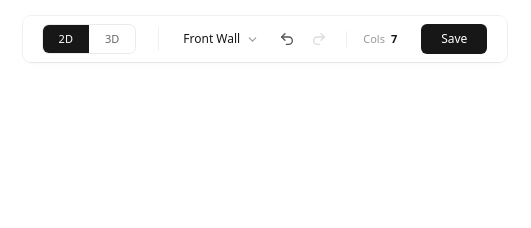
Test: TopToolbar › toggles view mode, changes face, and saves the current project
This screenshot has width=531, height=228.
Expected: the text "7" is shown, [391,31,397,47]
Expected: the button named "Redo" is disabled, [307,27,331,51]
Click the button "3D".
click(112, 39)  # box [89,25,135,53]
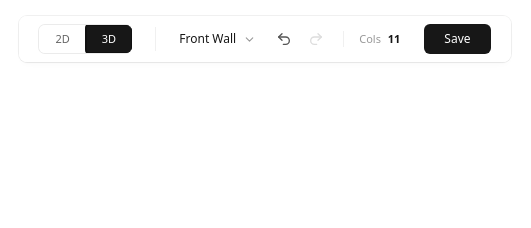
Click the button "Front Wall".
click(218, 39)  # box [180,30,256,48]
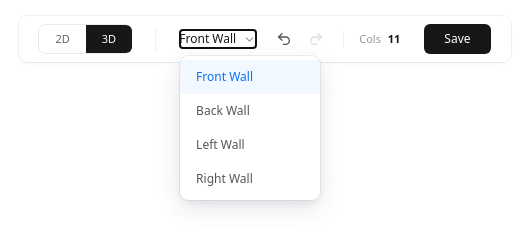
Click the button "Right Wall".
click(250, 179)  # box [180,162,320,196]
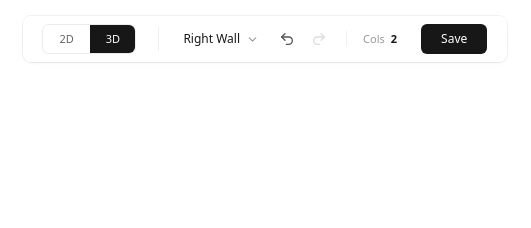
Click the button named "Undo".
click(287, 39)  # box [275,27,299,51]
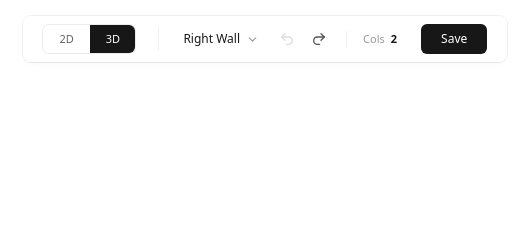
Click the button "Save".
click(454, 39)  # box [421,24,487,54]
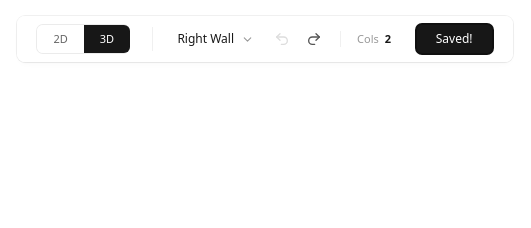
Result: the button "Saved!" is shown at [416,24,493,54]
